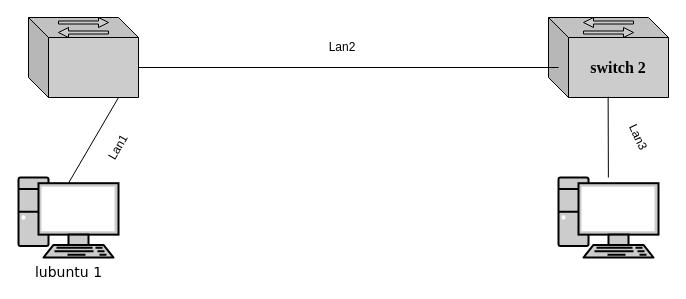
Some shapes in this 686 by 299 pixel diagram are drawn without their labels. Here are the shapes that lost their labels. From the top down, the centre of each, then its label:
pixel 83 57: switch
pixel 608 217: lubuntu 2
